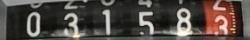digits: (129, 5, 156, 38), (174, 7, 194, 35), (63, 12, 79, 36), (26, 11, 41, 36), (214, 14, 228, 34), (102, 9, 110, 34)
